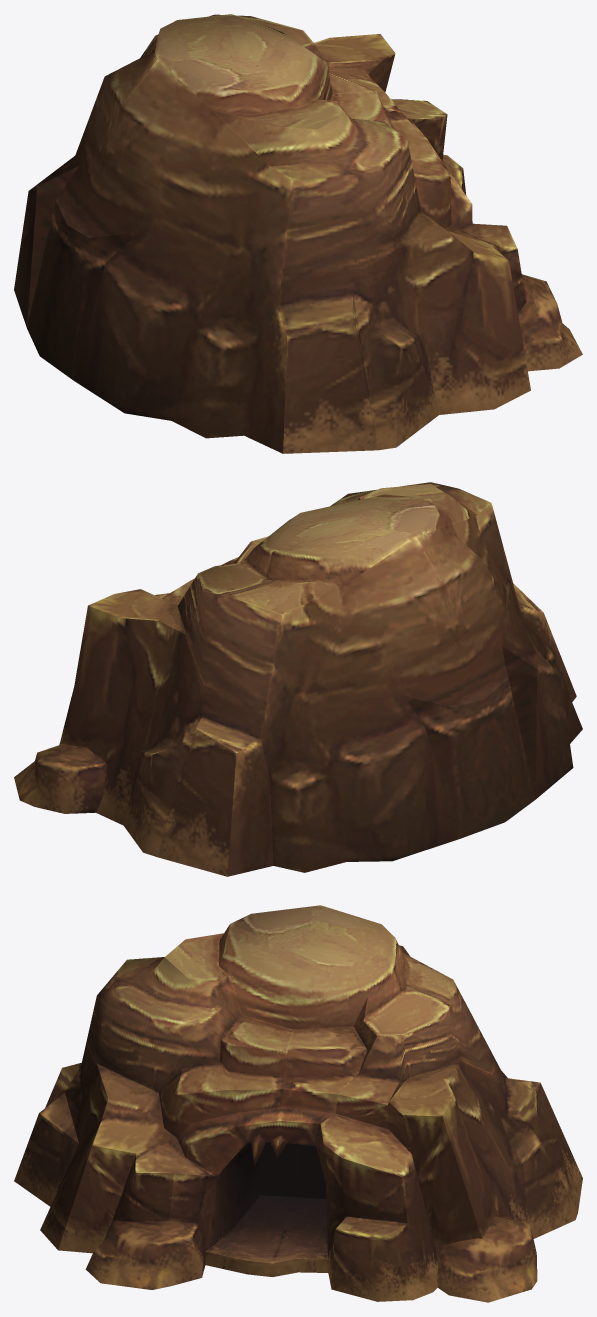
Rendered from ShanDong01.FBX.
3 views of the same model, one above another, from view 1: azimuth 30°, elevation 25°; view 2: azimuth 150°, elevation 25°; view 3: azimuth 270°, elevation 25° (orthographic). The views are drawn at different scales.
Visible parts, largest first — view 1: 对象081; view 2: 对象081; view 3: 对象081.
Part boxes in pixels (x1,y1,x2,y2): 对象081: [14, 14, 582, 453]; 对象081: [14, 482, 582, 876]; 对象081: [14, 905, 582, 1302].
Size of the model in its own units: 376 by 220 by 459.
